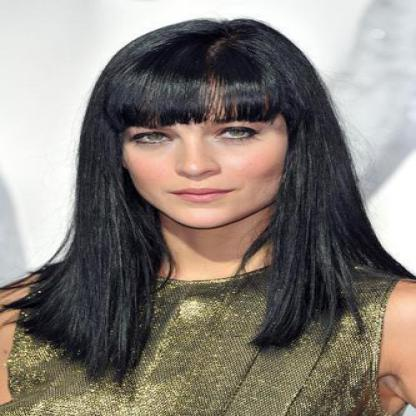long-hair: (40, 230, 400, 283)
